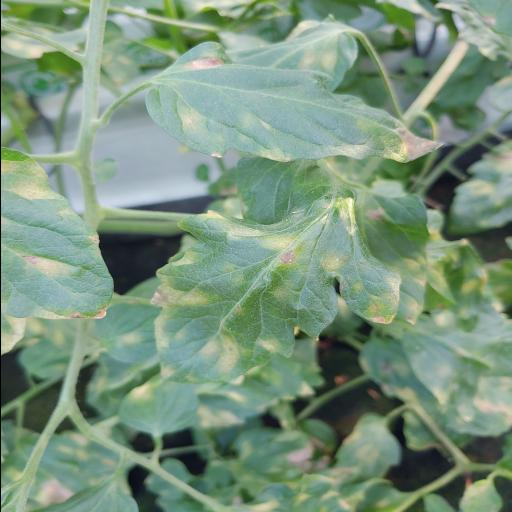Leaf Mold: (150, 156, 430, 382), (147, 41, 444, 163)
